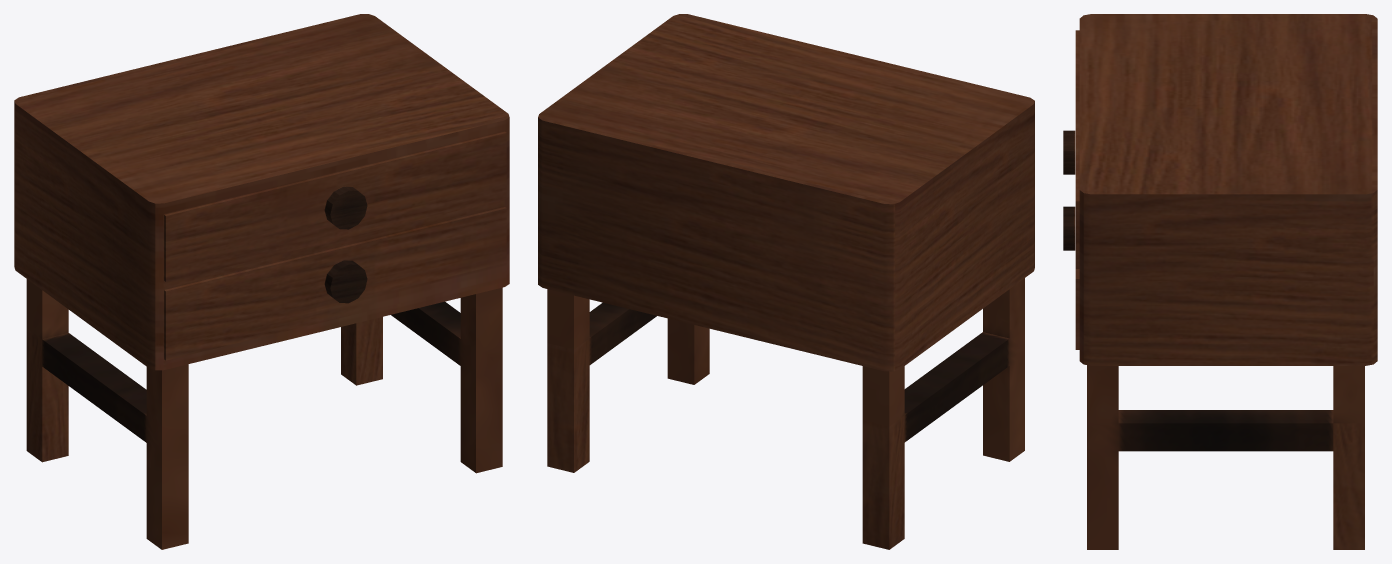
File: Commode.fbx
3 renders of one model, left to right at view 1: azimuth 30°, elevation 25°; view 2: azimuth 150°, elevation 25°; view 3: azimuth 270°, elevation 25°, orthographic. The views are drawn at different scales.
Parts seen in each view (by area): view 1: Commmode; view 2: Commmode; view 3: Commmode.
Boxes of the visible parts, x1,y1,x2,y2 form: Commmode: (14,14,509,549); Commmode: (538,14,1034,549); Commmode: (1063,14,1377,549).
Bounding box in the file's own units: 0.9601 × 0.8921 × 0.7069.
